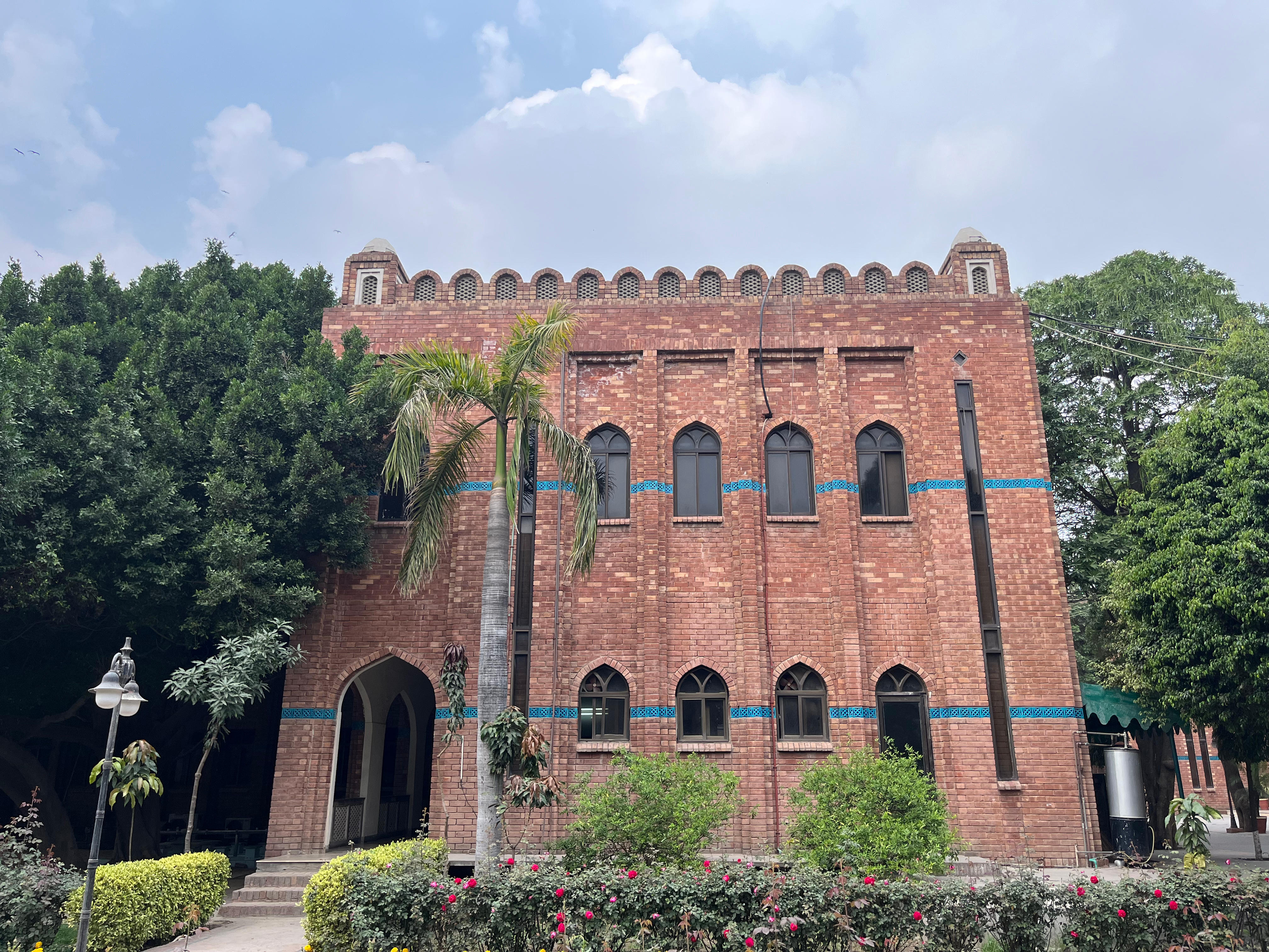Block B: (227, 228, 1117, 916)
